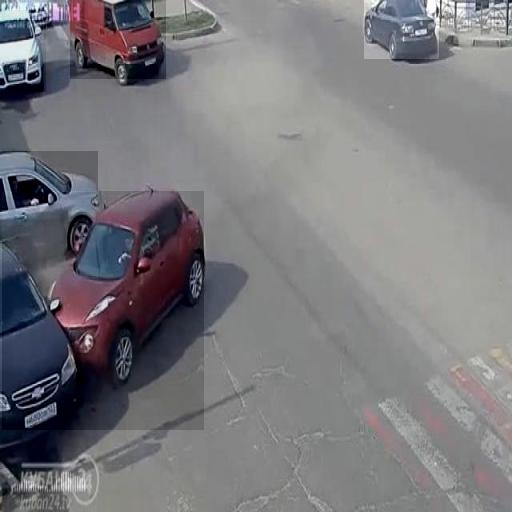小汽车: (0, 151, 98, 241), (70, 0, 166, 79), (364, 0, 439, 59), (0, 10, 46, 92)
小汽车撞小汽车: (2, 191, 204, 430)
